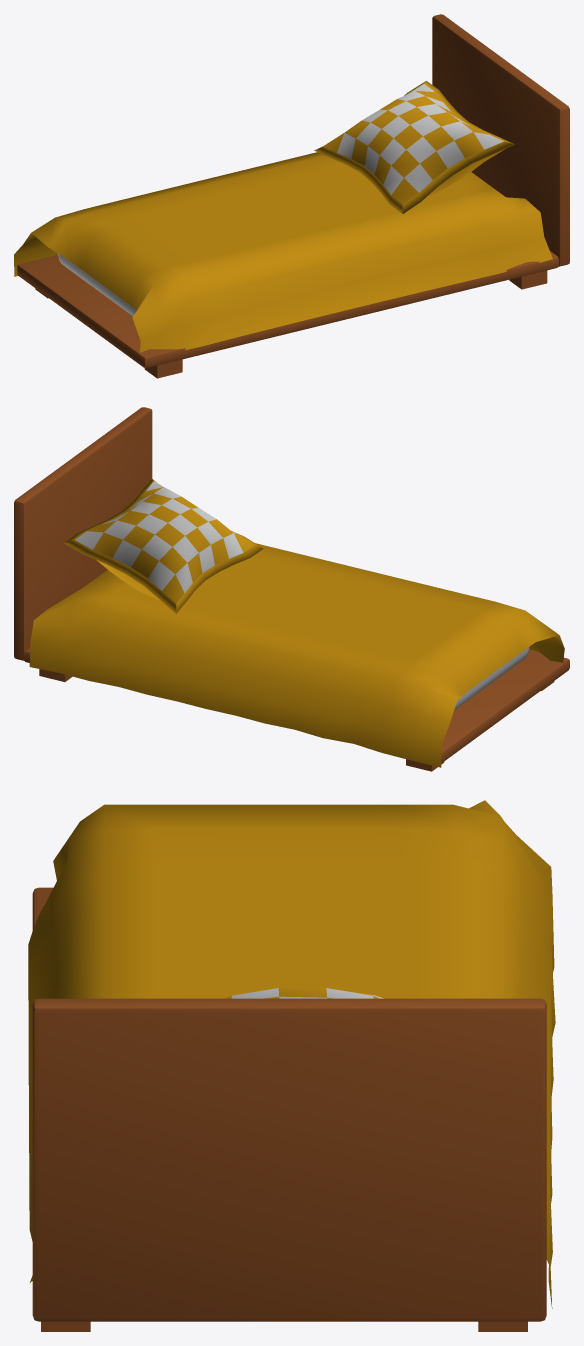
Rendered from Cama individual 2.fbx.
3 views of the same model, one above another, from view 1: azimuth 30°, elevation 25°; view 2: azimuth 150°, elevation 25°; view 3: azimuth 270°, elevation 25° (orthographic). The views are drawn at different scales.
Visible parts, largest first — view 1: Cama Individual001; view 2: Cama Individual001; view 3: Cama Individual001.
Part boxes in pixels (x1,y1,x2,y2): Cama Individual001: [14, 14, 569, 378]; Cama Individual001: [14, 407, 569, 771]; Cama Individual001: [28, 800, 555, 1331].
Size of the model in its own units: 156 by 60.09 by 83.07.
